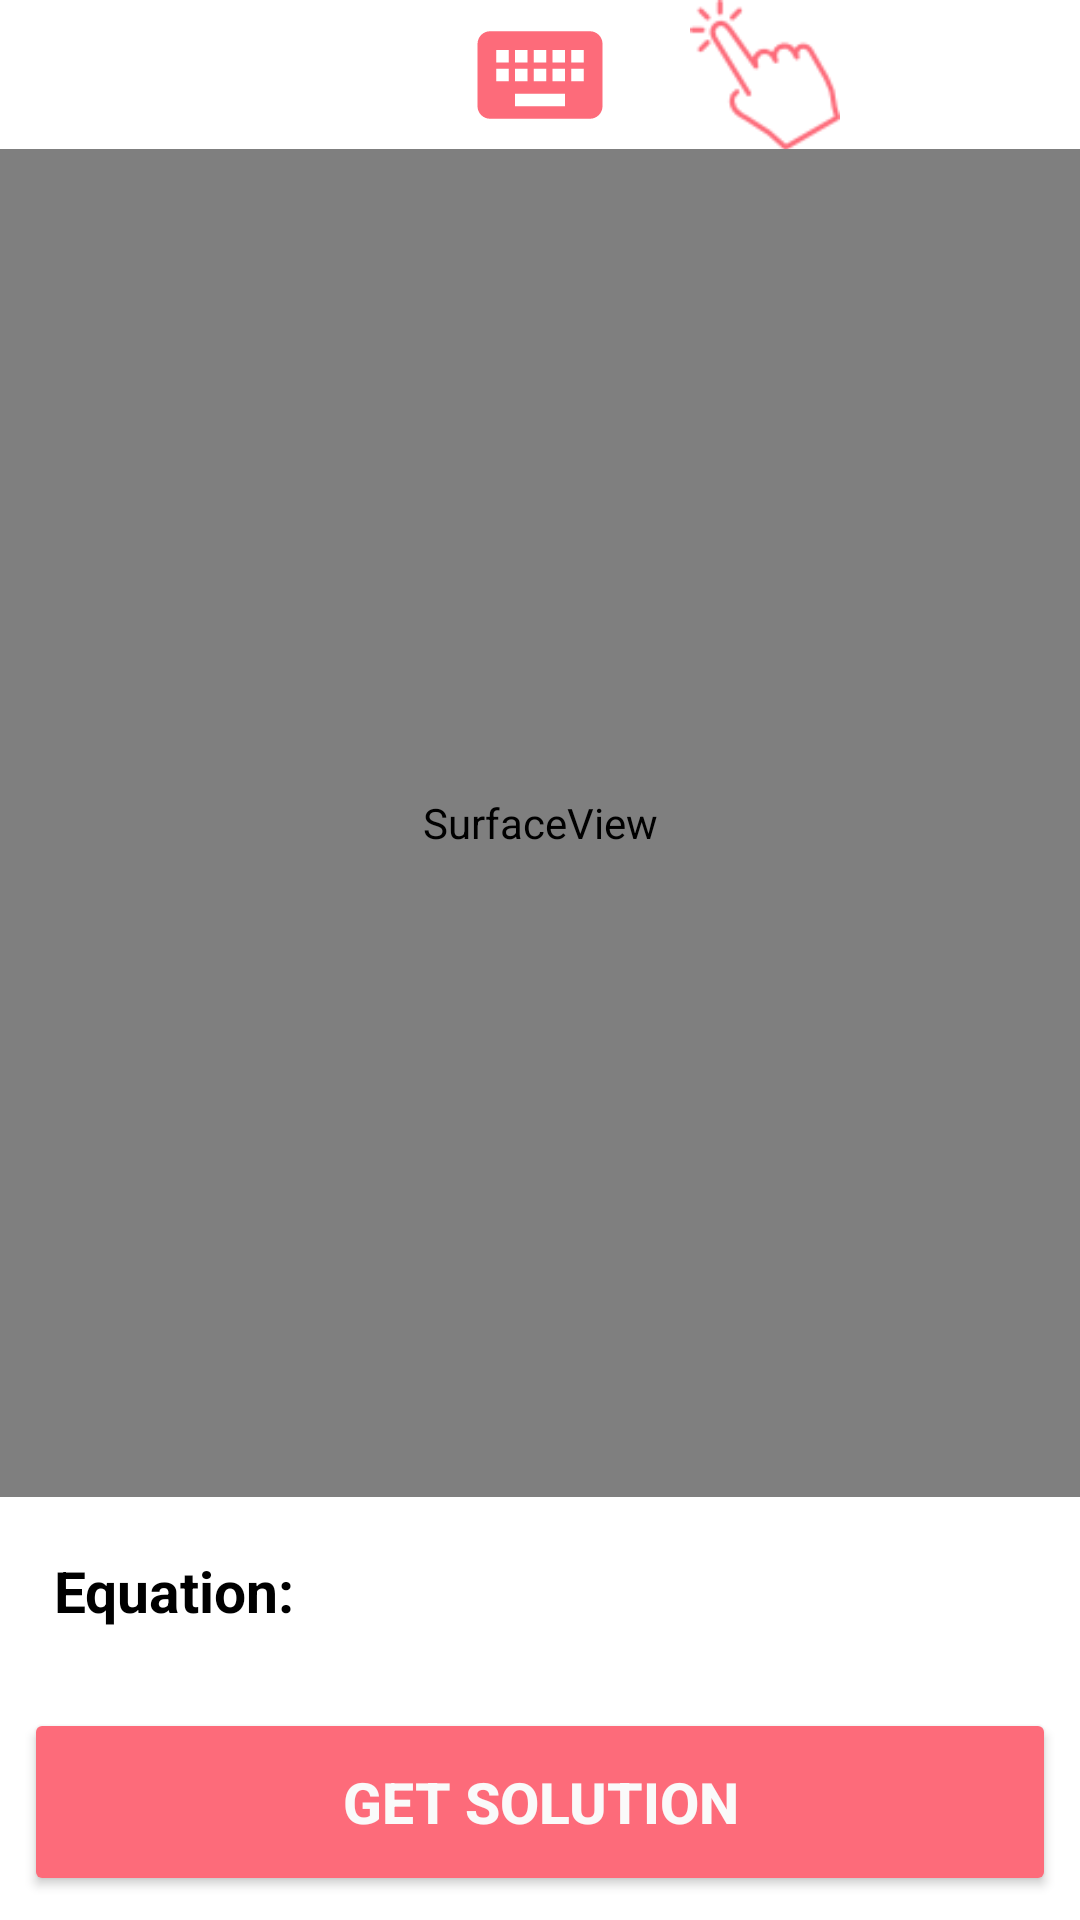

Icon click points for this 1080×1920 phone screenshot, format (x,y):
keyboard: (540,75)
